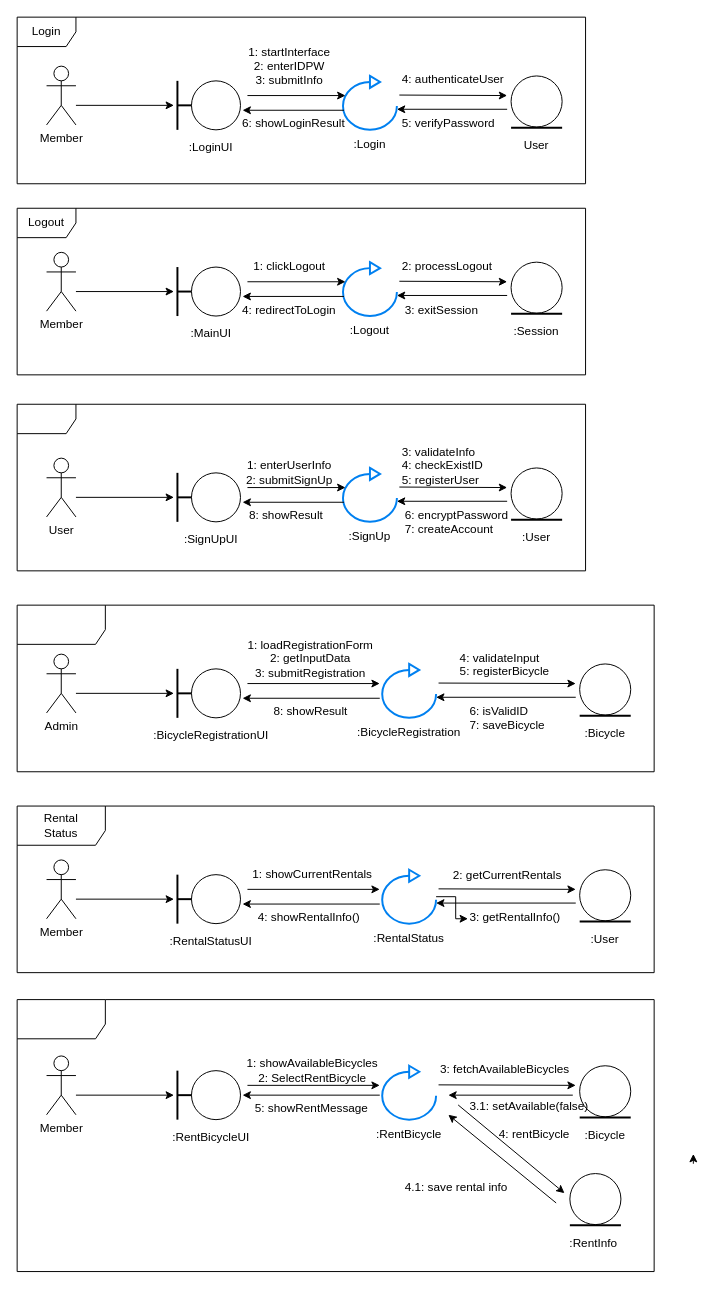
Some shapes in this 718 by 1289 pixel diagram are drawn without their labels. Each missing label, with the centre of its shape:
Bicycle Registration: pixel 335 688
Rent Bicycle: pixel 335 1135
SignUp: pixel 301 487
